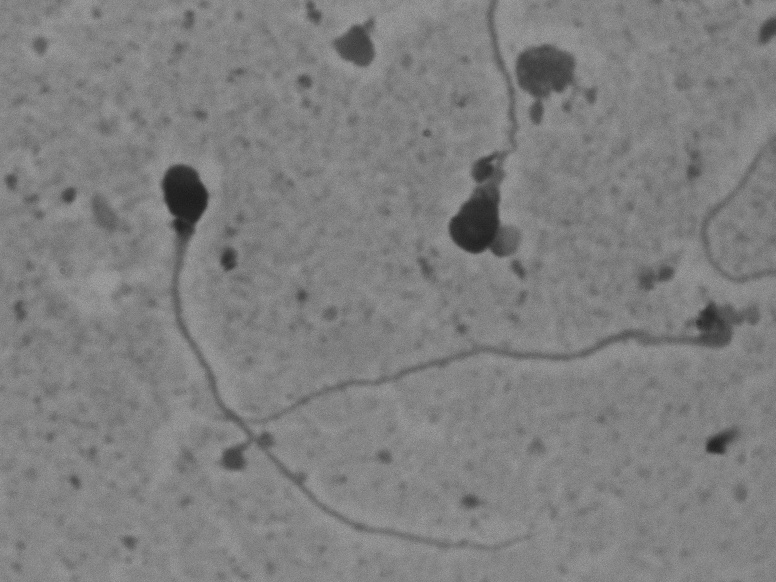Abnormal: (148, 153, 558, 563), (271, 284, 752, 429), (428, 7, 577, 277)
